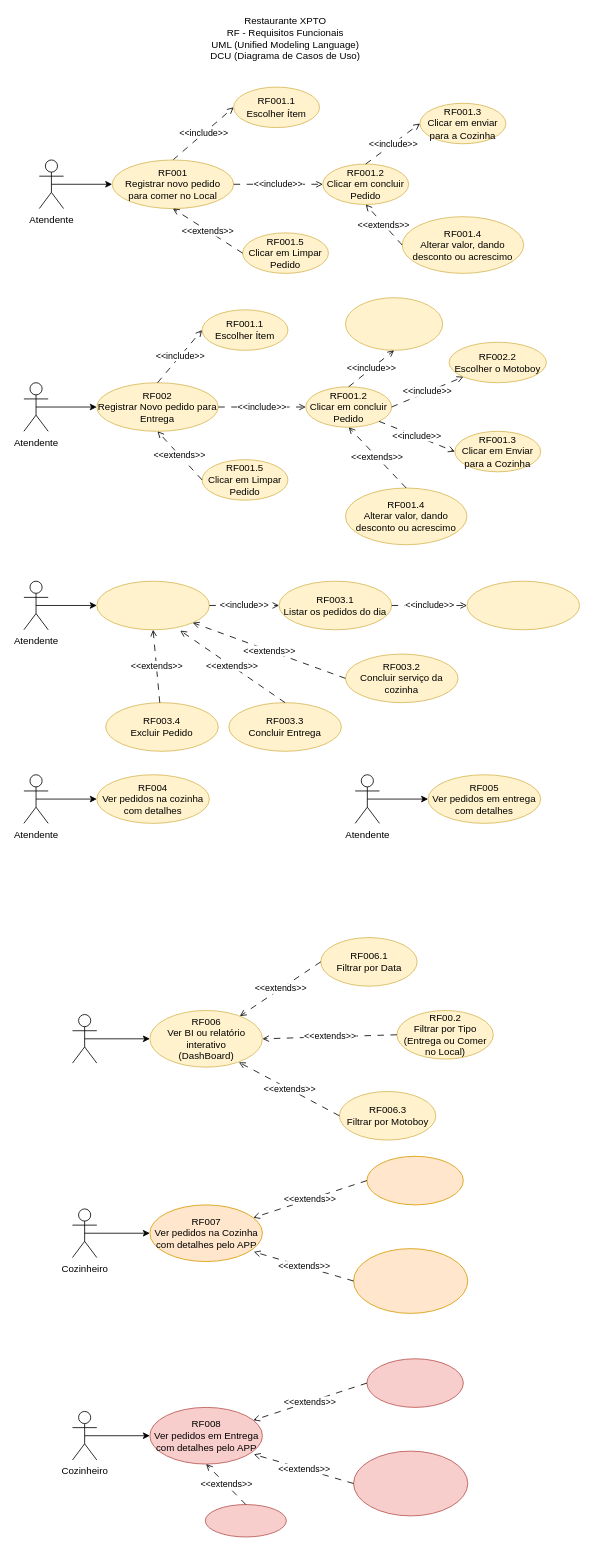
The diagram is 594 pixels wide and 1551 high, and some of its shapes have lost their labels. The box of each missing label's shape, as (x1, y1, x2, y2) in pixels:
Gerente ou Atendente: (72, 1014, 97, 1063)
RF002.1 Pesquisar e escolher o Cliente: (345, 297, 443, 350)
RF003 Gerir novos pedidos: (96, 580, 209, 630)
RF003.5 Ver o status dos pedidos do dia: (466, 580, 580, 630)
RF007.1 Concluir Pedido: (366, 1155, 463, 1205)
RF007.2 Ver se é para entrega ou não, para poder embrulhar: (353, 1248, 468, 1313)
RF008.1 Concluir Entrega: (366, 1358, 463, 1407)
RF008.2 Ver endereço completo e detalhes do pedido: (353, 1450, 468, 1516)
RF008.3 Ver mapa: (205, 1504, 286, 1537)
